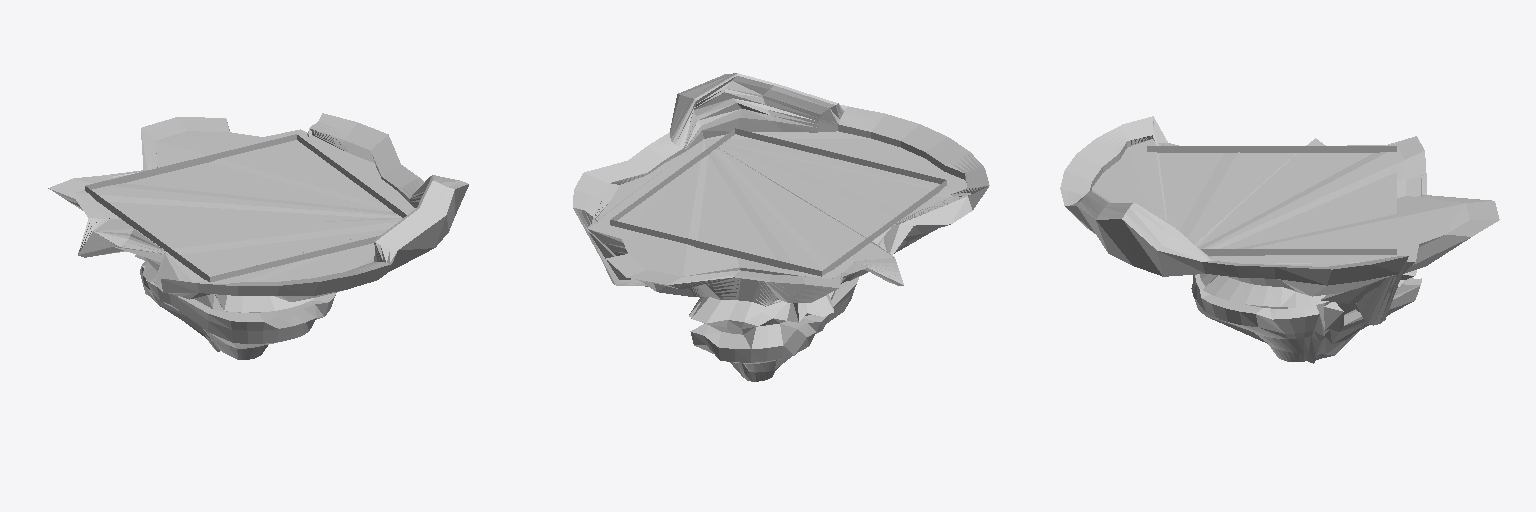
Rendered from FloatIsland3.obj.
3 views of the same model, side by side, from view 1: azimuth 30°, elevation 25°; view 2: azimuth 150°, elevation 25°; view 3: azimuth 270°, elevation 25° (orthographic).
Visible parts, largest first — view 1: Cube.001; view 2: Cube.001; view 3: Cube.001.
Part boxes in pixels (bbox=[...]): Cube.001: bbox=[48, 113, 468, 359]; Cube.001: bbox=[573, 73, 989, 381]; Cube.001: bbox=[1060, 116, 1499, 363].
Size of the model in its own units: 15.08 by 9.45 by 18.11.